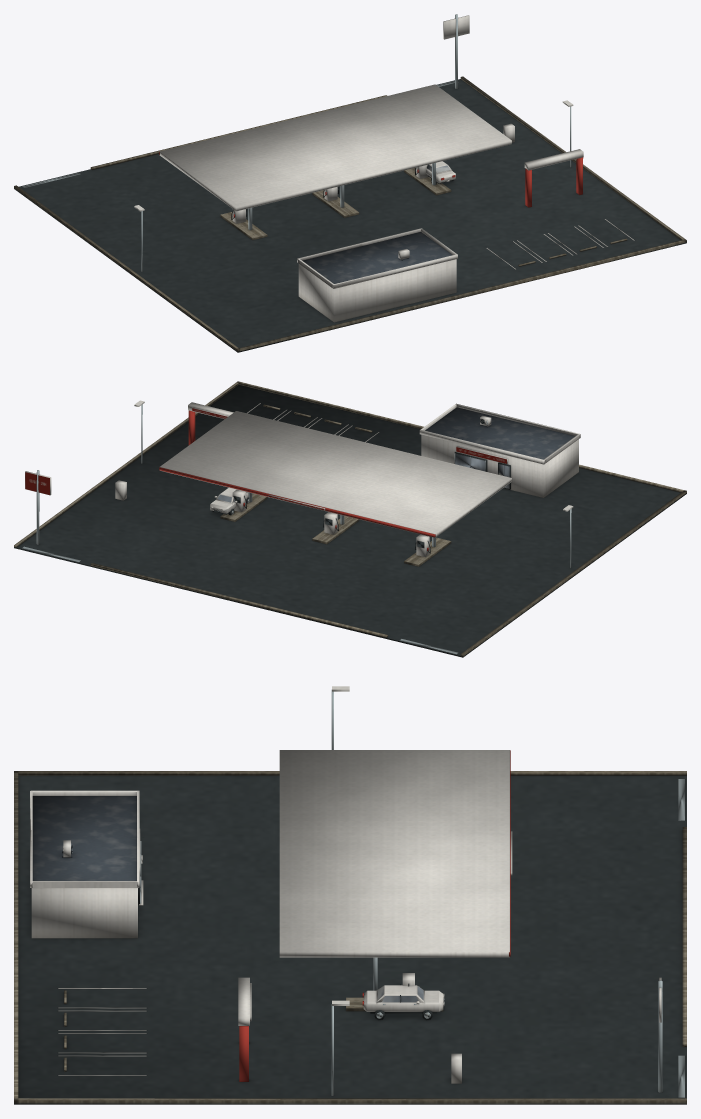
Rendered from fuel_roadside_001.lod1.obj.
3 renders of one model, top to bottom at view 1: azimuth 30°, elevation 25°; view 2: azimuth 150°, elevation 25°; view 3: azimuth 270°, elevation 25°, orthographic. The views are drawn at different scales.
Visible parts, largest first — view 1: fuel_roadside_001; view 2: fuel_roadside_001; view 3: fuel_roadside_001.
Part boxes in pixels (left/top/right/bottom): fuel_roadside_001: left=14, top=14, right=686, bottom=352; fuel_roadside_001: left=14, top=381, right=686, bottom=657; fuel_roadside_001: left=14, top=686, right=686, bottom=1104.
Bounding box in the file's own units: 44 × 7 × 38.
Materials: 1 (1 with a texture image).
